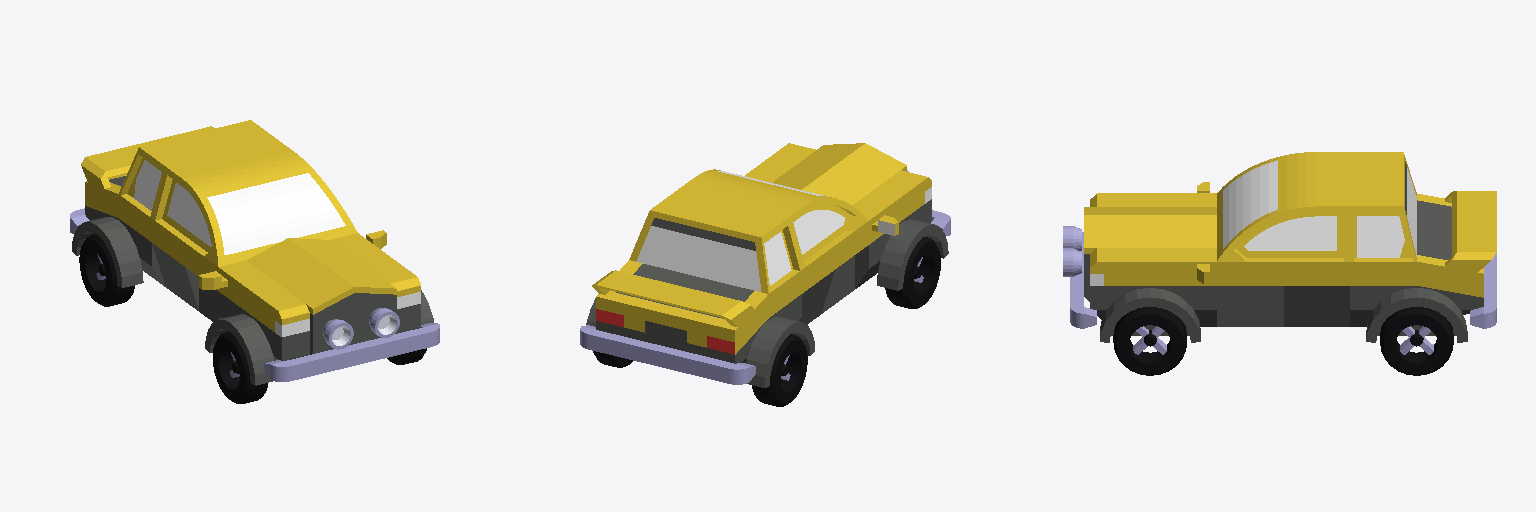
File: car1.obj
The picture shows the model from 3 angles: view 1: azimuth 30°, elevation 25°; view 2: azimuth 150°, elevation 25°; view 3: azimuth 270°, elevation 25°; orthographic projection.
Visible parts, largest first — view 1: mergedBlocks; view 2: mergedBlocks; view 3: mergedBlocks.
Part boxes in pixels (x1,y1,x2,y2): mergedBlocks: (70, 120, 439, 403); mergedBlocks: (580, 143, 950, 406); mergedBlocks: (1063, 152, 1496, 375).
Bounding box in the file's own units: 0.56 × 0.447 × 1.14.